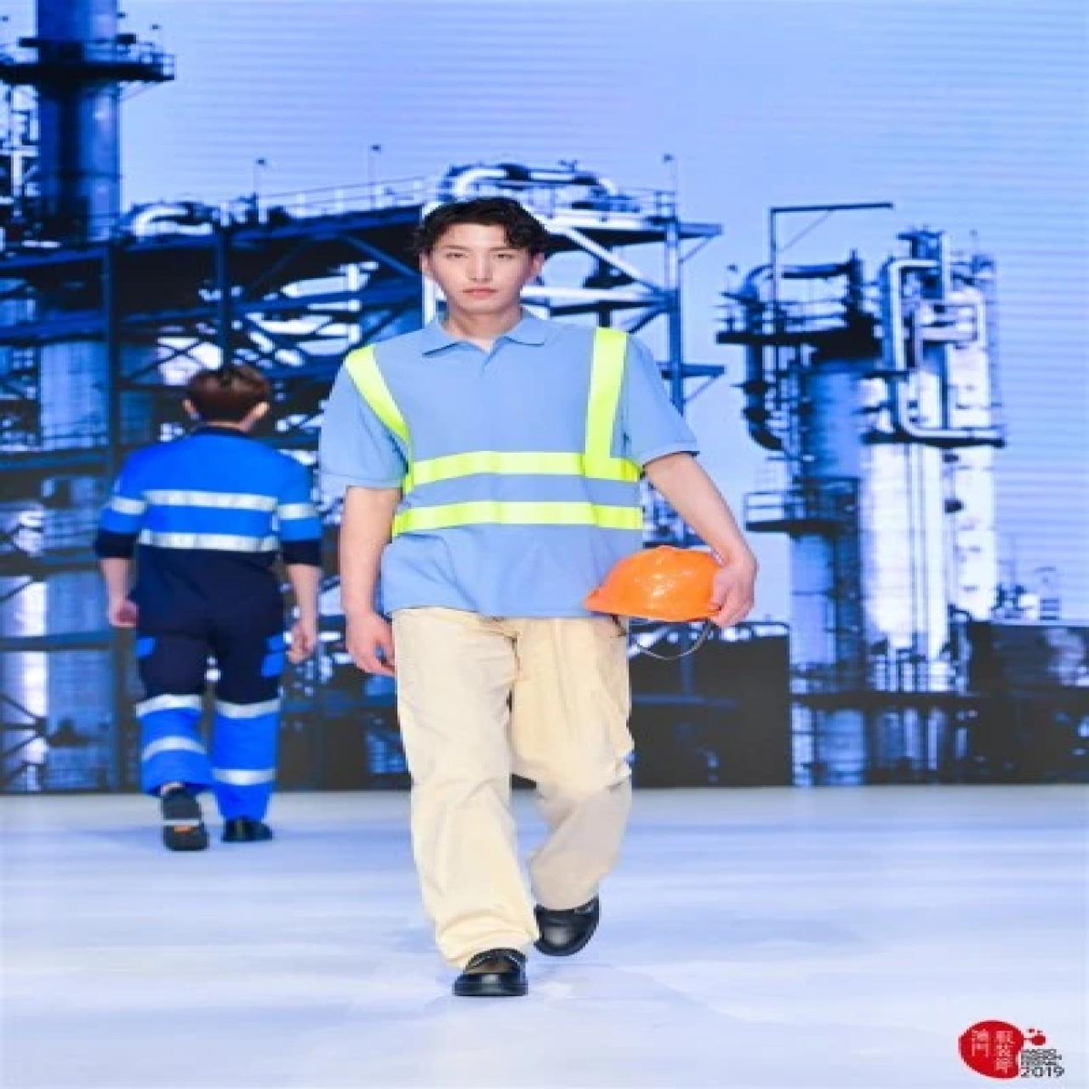NO_Safety_Vest: (324, 321, 672, 625), (115, 433, 299, 604)
Person: (290, 185, 756, 1002), (76, 349, 341, 848)
